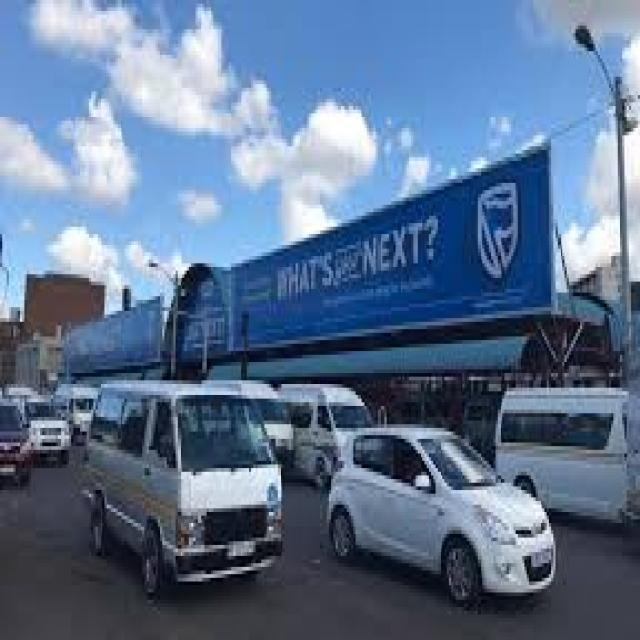MiniBus taxi: (89, 366, 287, 600), (495, 380, 640, 533)
Passenger Car: (322, 414, 562, 604), (2, 398, 34, 486)
